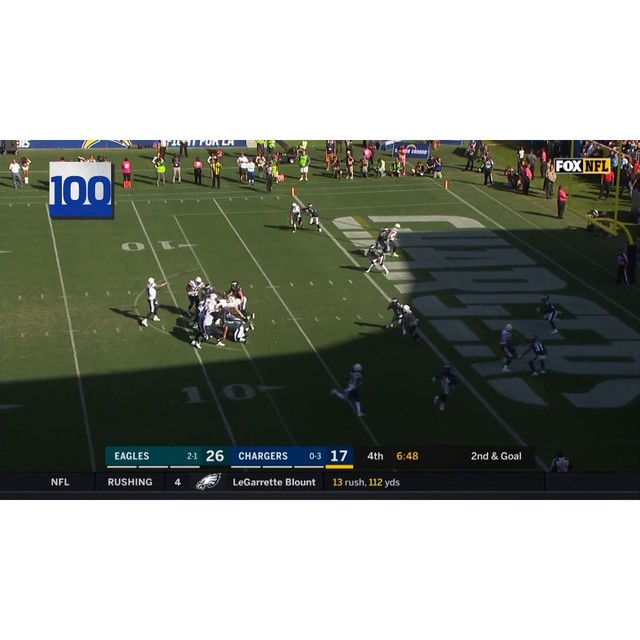american-football-player: (330, 363, 366, 416), (140, 277, 167, 326), (432, 362, 458, 411), (216, 311, 250, 345), (228, 279, 254, 321), (522, 335, 548, 377), (498, 322, 519, 370), (399, 303, 421, 343), (538, 295, 560, 334), (364, 245, 390, 275), (184, 277, 202, 316), (365, 226, 390, 254), (385, 297, 403, 331), (303, 202, 322, 233), (386, 223, 402, 258), (288, 202, 303, 233)
referee: (615, 246, 630, 287)
